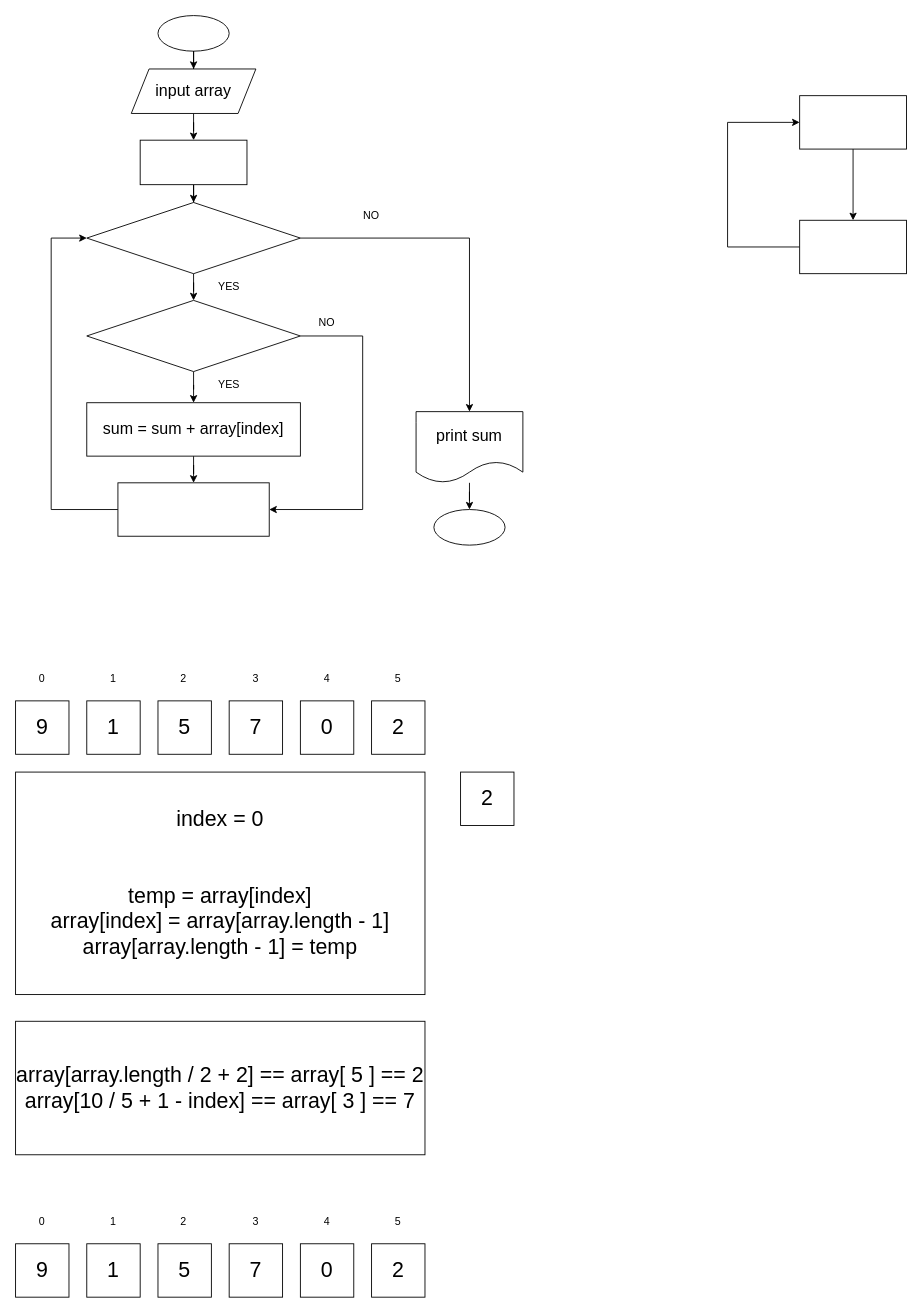
Some shapes in this 922 by 1313 pixel diagram are drawn without their labels. Each missing label, with the box of its shape:
array[index] % 2 == 1 ?: (86, 299, 300, 372)
finish: (433, 509, 505, 545)
index <= array.length - 1: (86, 202, 300, 274)
index = 0 sum = 0: (139, 139, 247, 185)
index = index + 1: (117, 482, 269, 536)
start: (157, 15, 229, 51)
